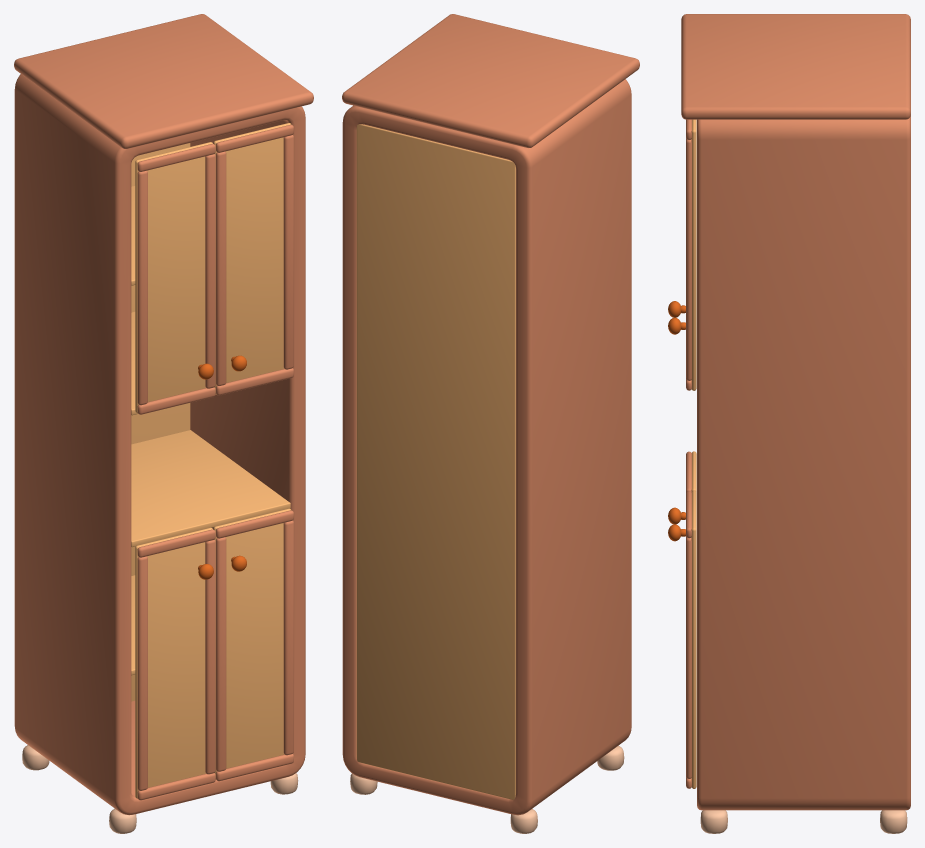
File: paneleiro_campestre.glb
3 renders of one model, left to right at view 1: azimuth 30°, elevation 25°; view 2: azimuth 150°, elevation 25°; view 3: azimuth 270°, elevation 25°, orthographic. The views are drawn at different scales.
Parts seen in each view (by area): view 1: paneleiro_campestre, porta_3, porta_1, porta_4, porta_2; view 2: paneleiro_campestre; view 3: paneleiro_campestre, porta_4, porta_2, porta_3.
Boxes of the visible parts, bbox=[...] form: paneleiro_campestre: bbox=[14, 14, 313, 833]; porta_3: bbox=[135, 527, 215, 800]; porta_1: bbox=[135, 142, 215, 414]; porta_4: bbox=[213, 508, 293, 781]; porta_2: bbox=[213, 123, 293, 395]; paneleiro_campestre: bbox=[342, 14, 639, 833]; paneleiro_campestre: bbox=[681, 14, 910, 833]; porta_4: bbox=[668, 491, 696, 788]; porta_2: bbox=[668, 119, 696, 390]; porta_3: bbox=[668, 451, 696, 524].
Size of the model in its own units: 0.598 by 2.1 by 0.6336.
Materials: 1 (1 with a texture image).
